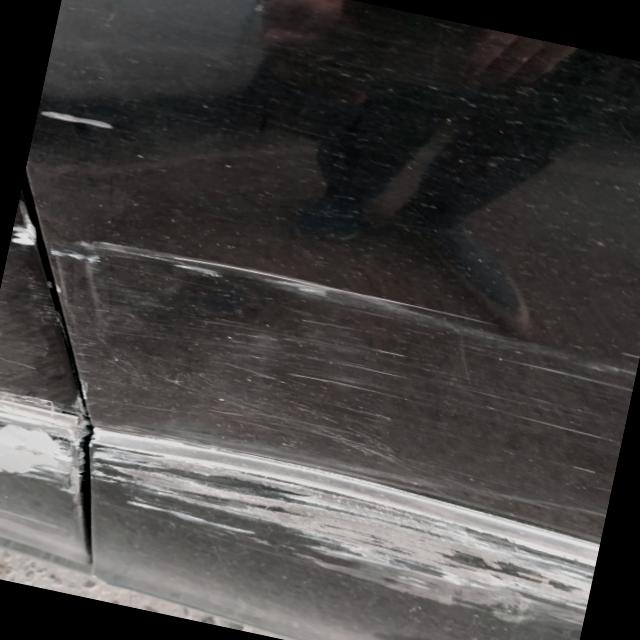Rayure: (0, 411, 601, 627), (80, 224, 511, 350), (6, 211, 54, 265)
